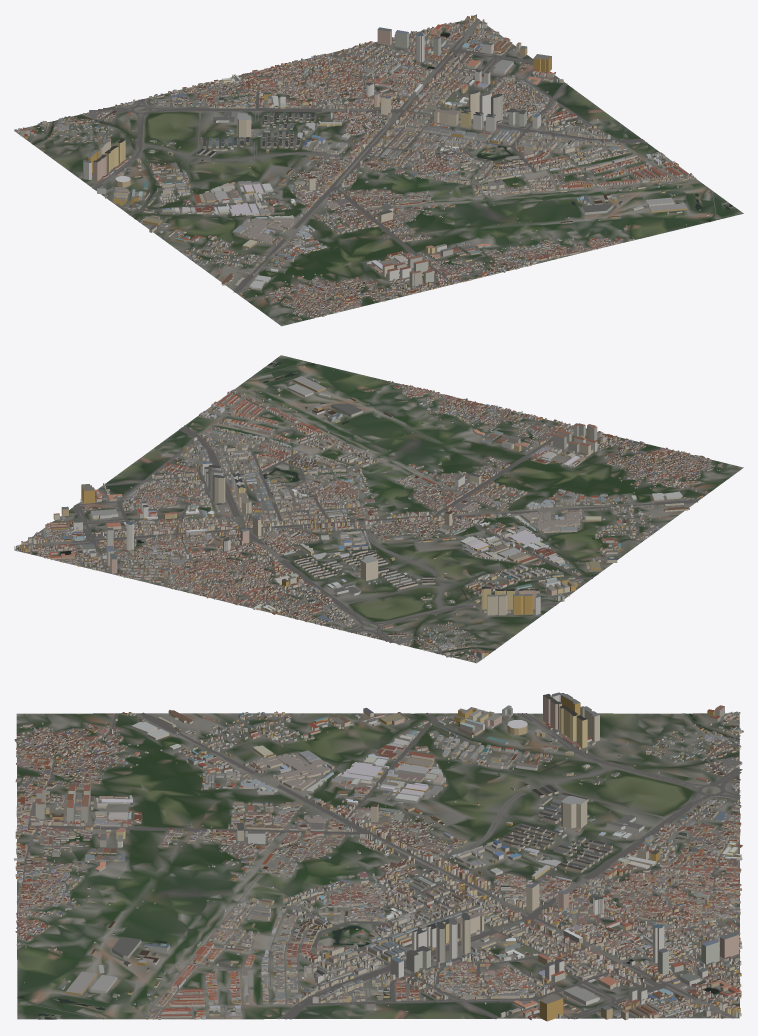
3 renders of one model, top to bottom at view 1: azimuth 30°, elevation 25°; view 2: azimuth 150°, elevation 25°; view 3: azimuth 270°, elevation 25°, orthographic. The views are drawn at different scales.
Visible parts, largest first — view 1: ground, buildings, roads; view 2: ground, buildings, roads; view 3: ground, buildings, roads, water.
Part boxes in pixels (x1=…): ground: x1=14, y1=18, x2=743, y2=326; buildings: x1=14, y1=14, x2=718, y2=319; roads: x1=28, y1=18, x2=717, y2=308; ground: x1=14, y1=355, x2=743, y2=662; buildings: x1=14, y1=363, x2=722, y2=663; roads: x1=17, y1=357, x2=707, y2=659; ground: x1=16, y1=713, x2=739, y2=1019; buildings: x1=14, y1=692, x2=743, y2=1021; roads: x1=17, y1=712, x2=742, y2=1019; water: x1=17, y1=713, x2=739, y2=1019.
Bounding box in the file's own units: 2842 × 158 × 2831.
